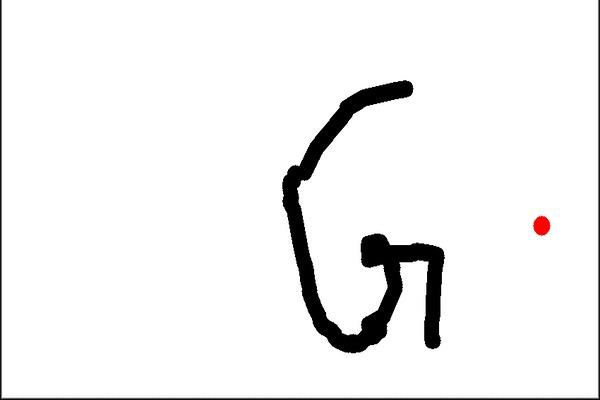G: (277, 75, 449, 359)
